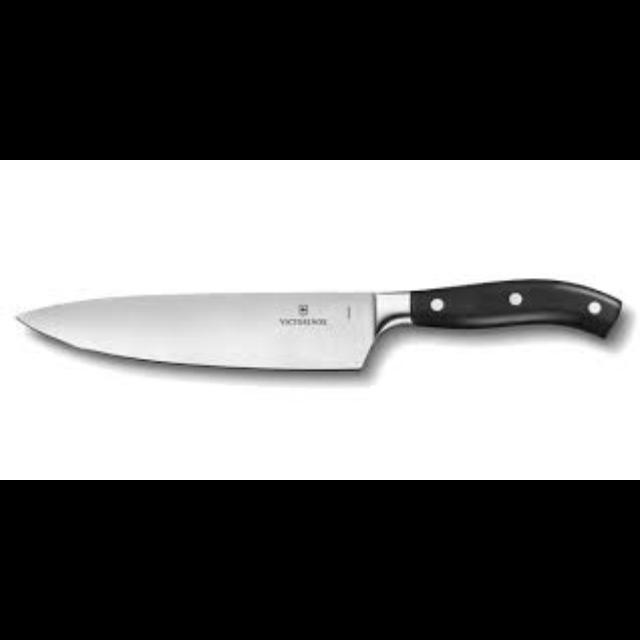knife: (14, 277, 622, 371)
